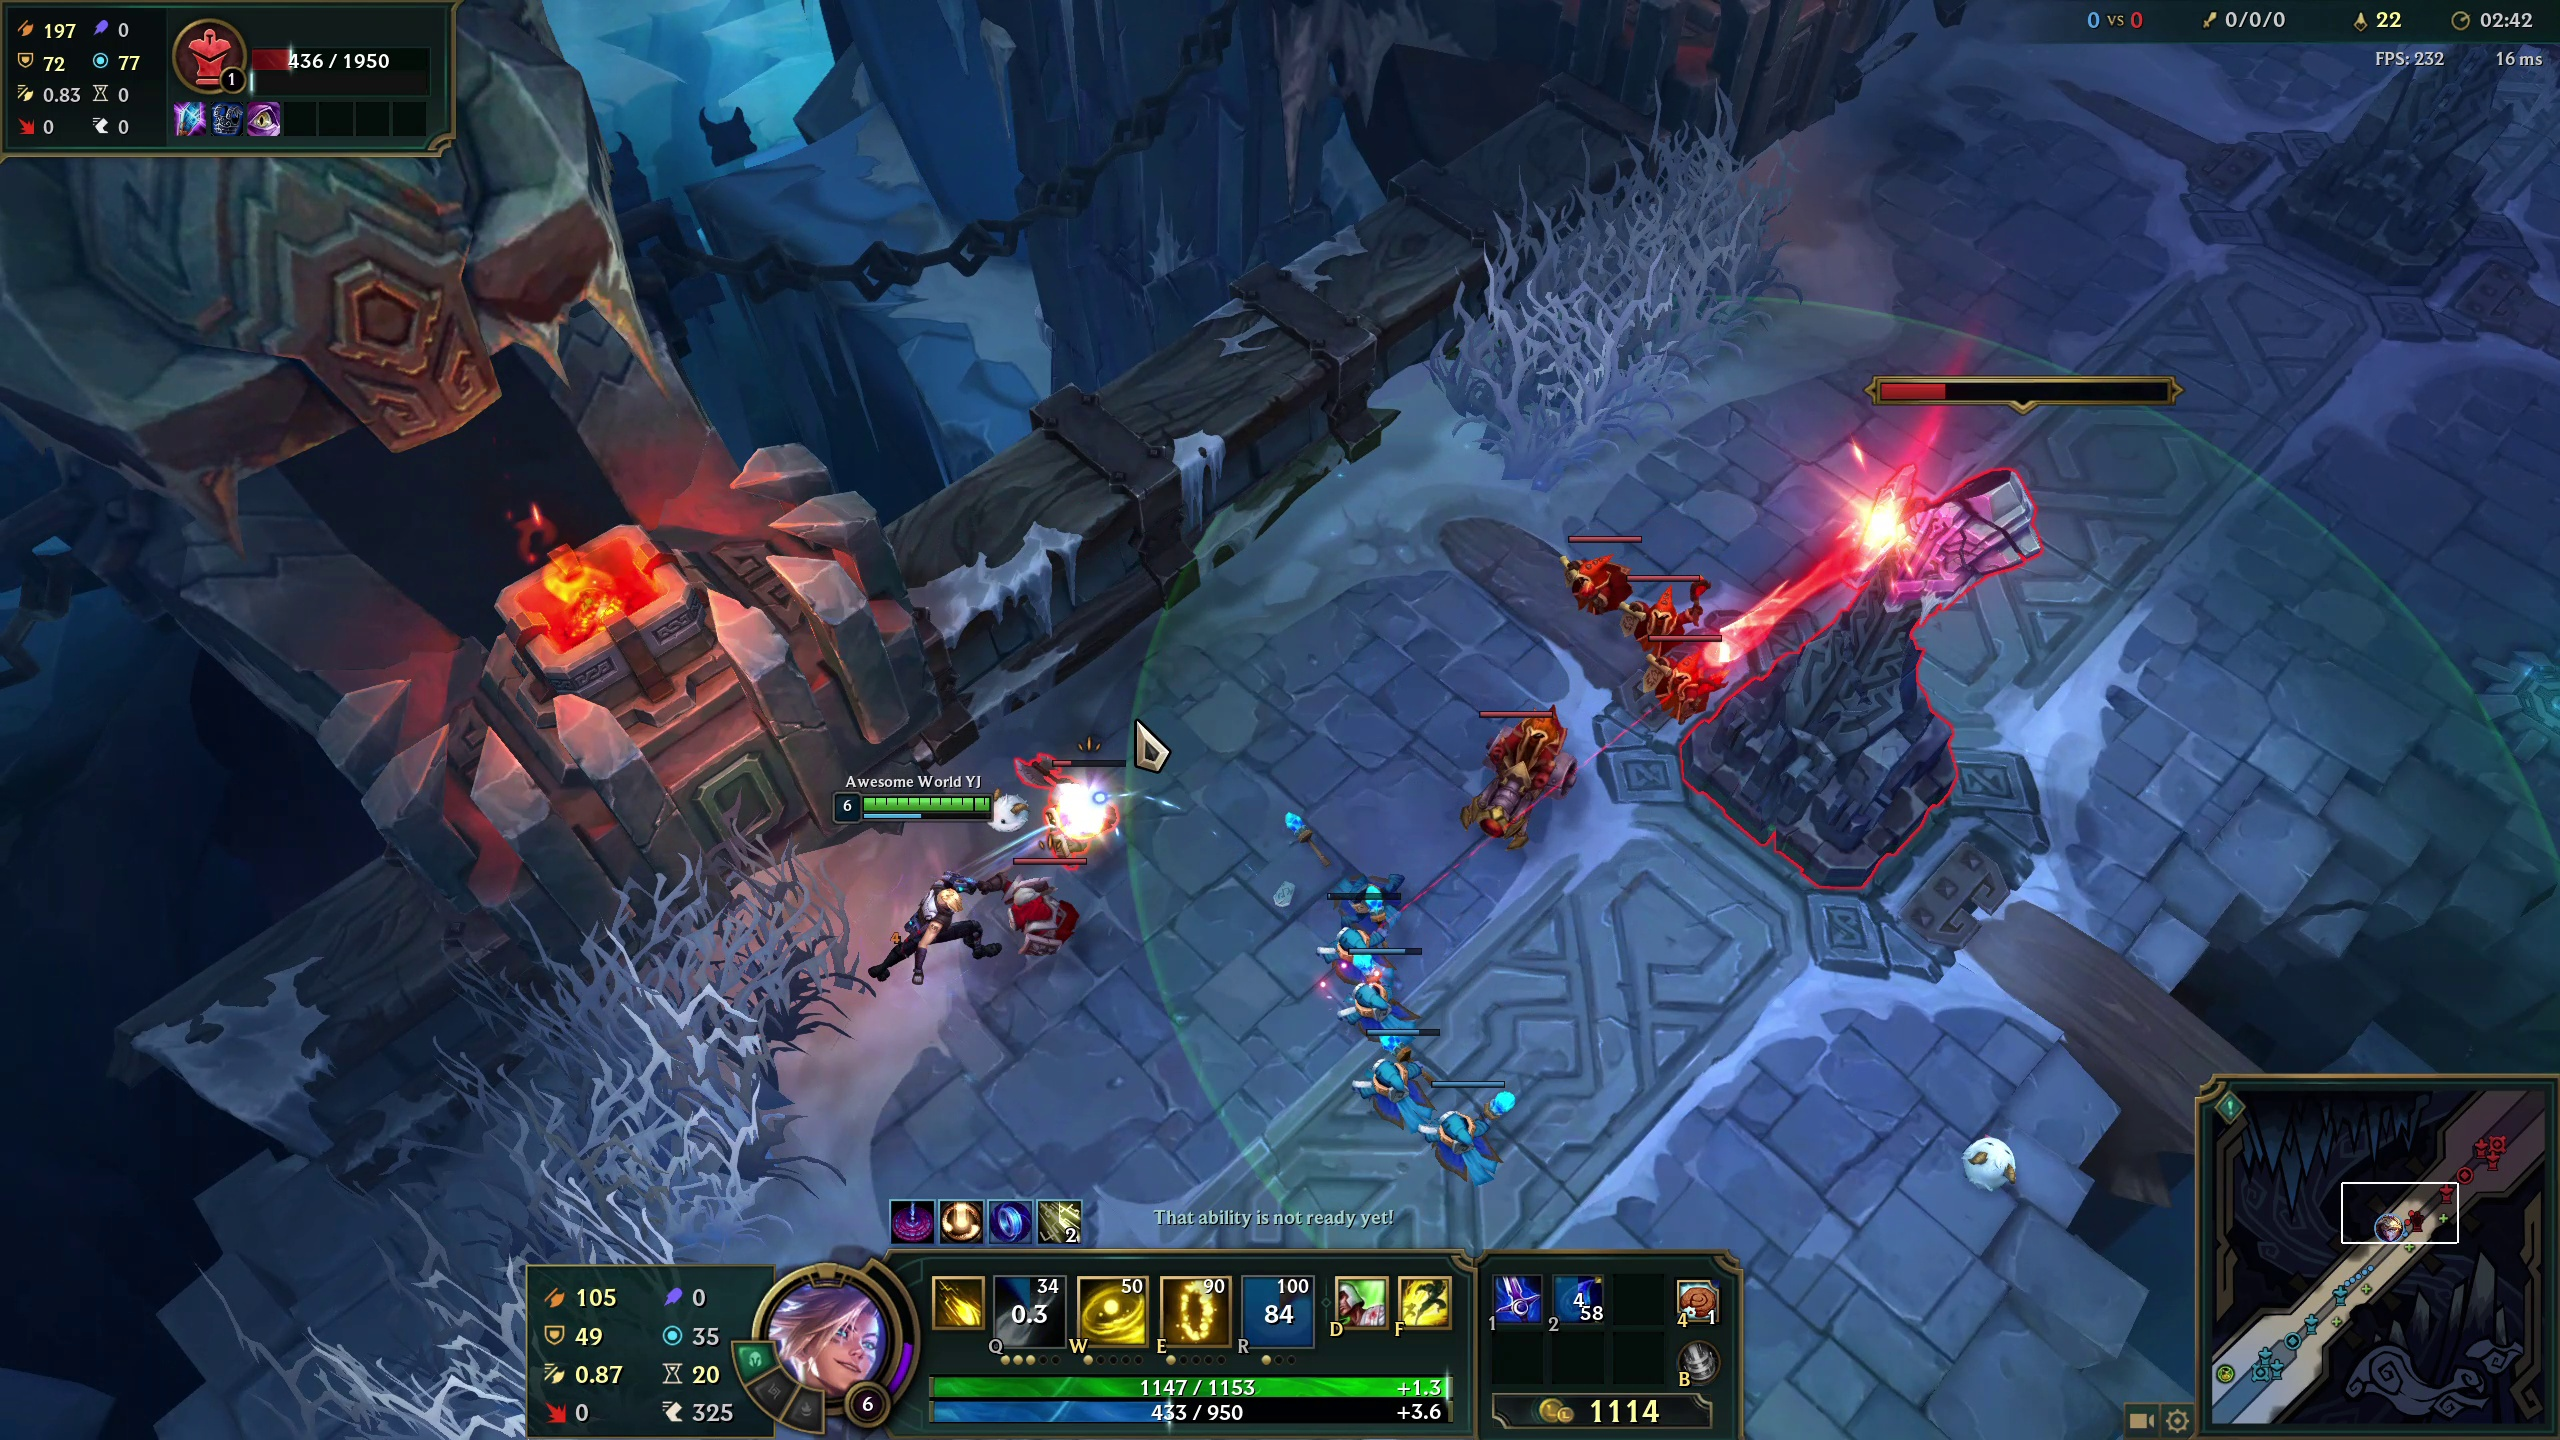EZ: (842, 763, 992, 988)
EnemyMinion: (1007, 760, 1095, 862), (1554, 527, 1642, 629), (1619, 556, 1707, 658), (1637, 629, 1725, 731), (1037, 758, 1125, 860), (993, 853, 1081, 955)
EnemySuperMinnion: (1475, 702, 1579, 847)
Glass: (524, 949, 777, 1203), (1473, 193, 1734, 403)
MyMinion: (1428, 1081, 1502, 1171), (1336, 949, 1405, 1030), (1366, 1030, 1435, 1111), (1326, 886, 1393, 967)
Turret: (1737, 469, 2018, 904), (2266, 107, 2518, 265)
